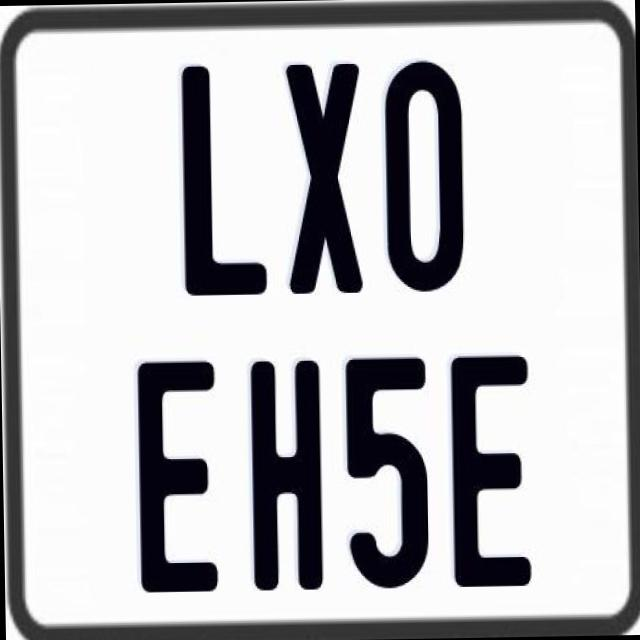0: (380, 58, 468, 292)
5: (341, 356, 428, 592)
E: (135, 356, 225, 592), (448, 353, 530, 591)
H: (247, 360, 319, 590)
L: (176, 60, 266, 300)
X: (280, 60, 362, 298)
